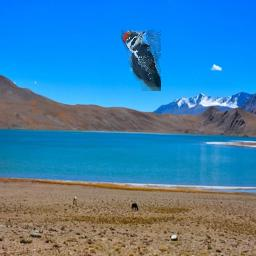Woodpecker: (121, 30, 161, 91)
